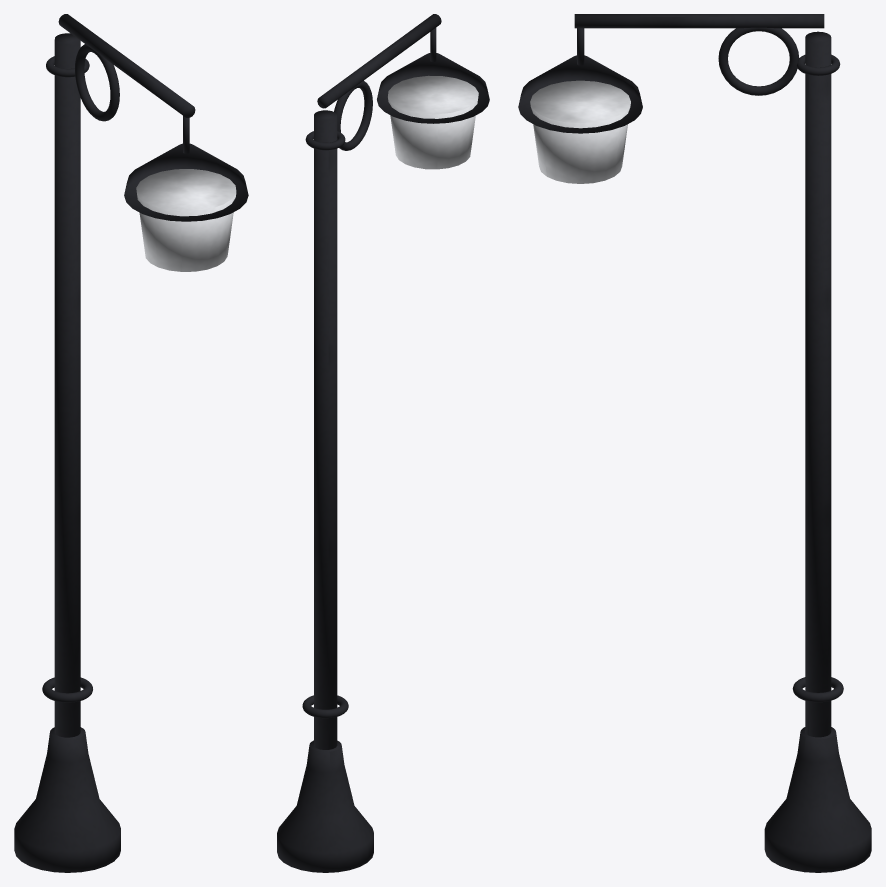
Rendered from StreetLamp.fbx.
The picture shows the model from 3 angles, left to right: view 1: azimuth 30°, elevation 25°; view 2: azimuth 150°, elevation 25°; view 3: azimuth 270°, elevation 25°; orthographic projection. The views are drawn at different scales.
Parts seen in each view (by area): view 1: StreetLamp_PlasticDark, StreetLamp_PlasticWhite_glow; view 2: StreetLamp_PlasticDark, StreetLamp_PlasticWhite_glow; view 3: StreetLamp_PlasticDark, StreetLamp_PlasticWhite_glow.
Boxes of the visible parts, x1=… form: StreetLamp_PlasticDark: x1=14, y1=14, x2=248, y2=872; StreetLamp_PlasticWhite_glow: x1=136, y1=169, x2=236, y2=271; StreetLamp_PlasticDark: x1=277, y1=14, x2=489, y2=872; StreetLamp_PlasticWhite_glow: x1=388, y1=75, x2=478, y2=169; StreetLamp_PlasticDark: x1=518, y1=14, x2=871, y2=872; StreetLamp_PlasticWhite_glow: x1=530, y1=80, x2=630, y2=183.
Bounding box in the file's own units: 210 × 1552 × 595.
2 materials, 2 textured.
